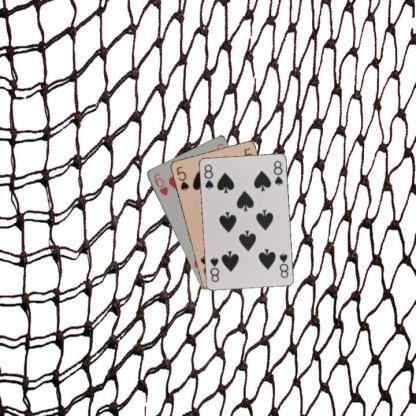5s: (174, 163, 190, 192)
6h: (151, 171, 169, 197)
8s: (276, 250, 290, 279), (200, 162, 214, 190)
